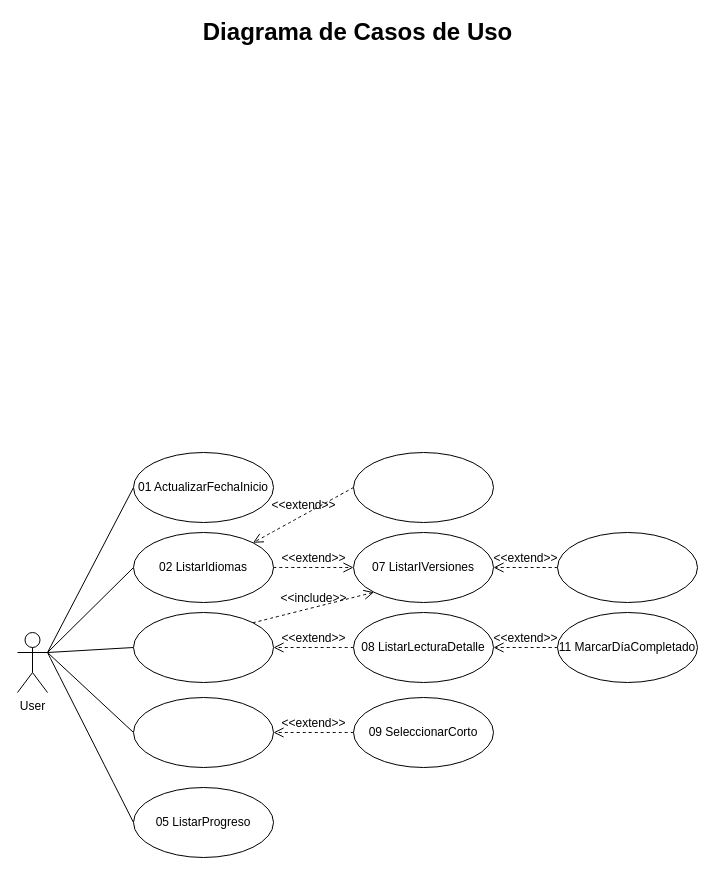
Some shapes in this 715 by 875 pixel diagram are drawn without their labels. Here are the shapes that lost their labels. From the top down, the centre of each, then its label:
the point at 423,487: 06 SeleccionarIdioma
the point at 627,567: 10 SeleccionarVersión
the point at 203,647: 03 ListarLecturas
the point at 203,732: 04 ListarCorto
